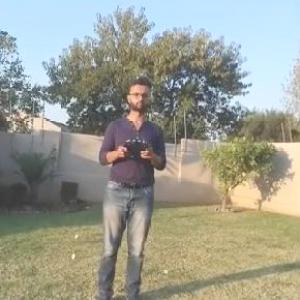follow: (95, 71, 177, 299)
